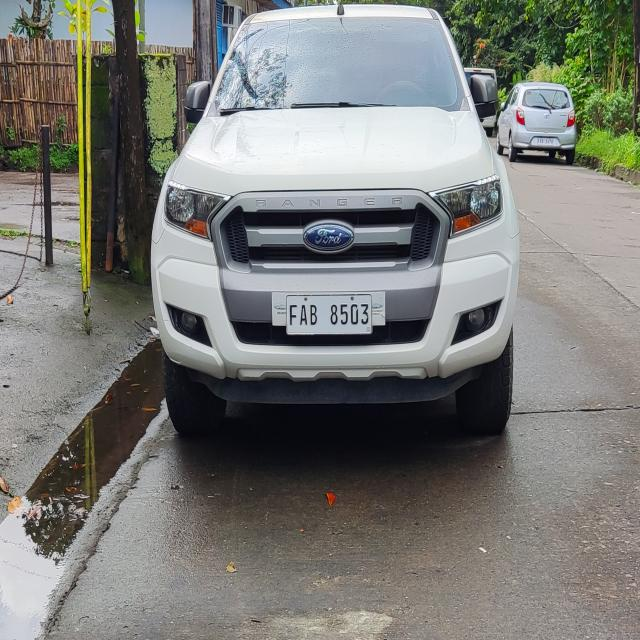plate: (285, 292, 374, 336)
